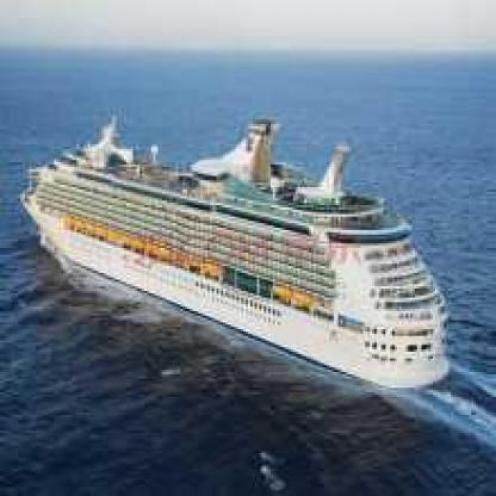Ship: (19, 125, 462, 394)
